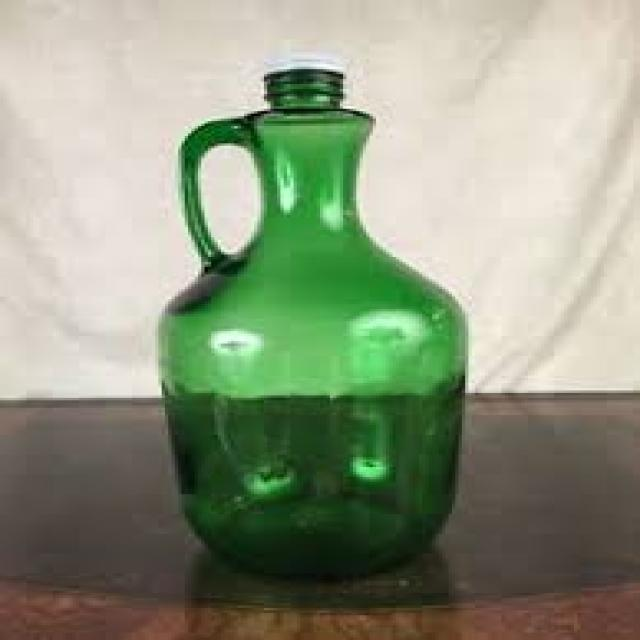glass: (152, 67, 462, 578)
